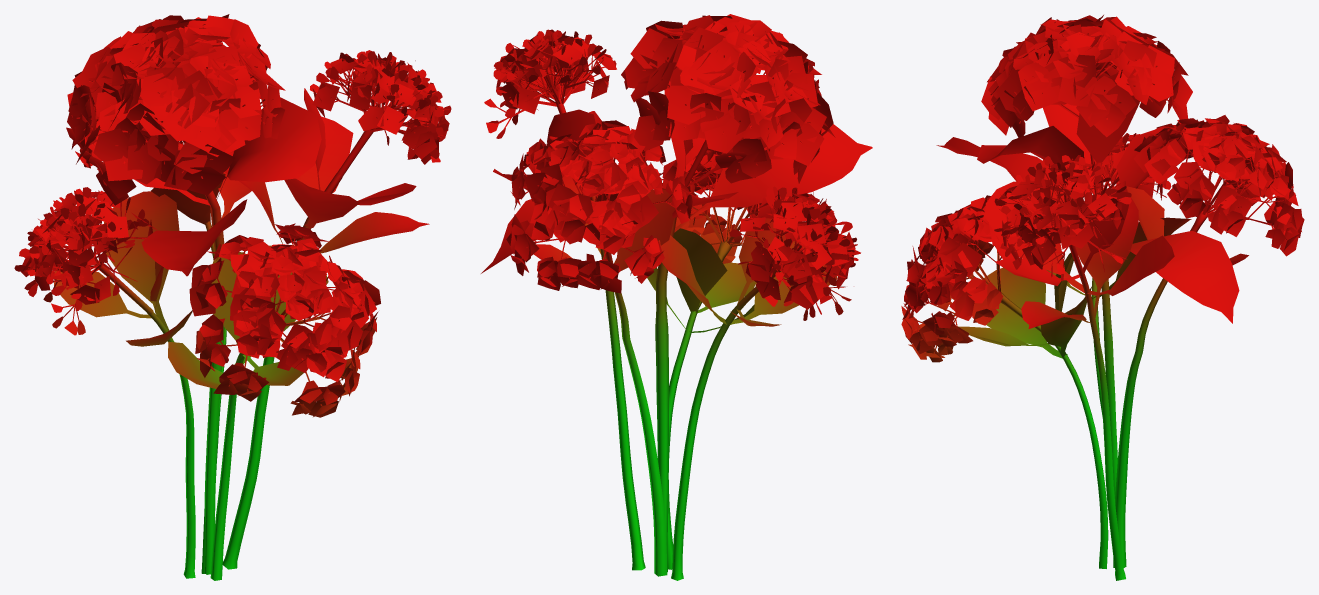
File: Var12_LOD2.fbx
The picture shows the model from 3 angles, left to right: view 1: azimuth 30°, elevation 25°; view 2: azimuth 150°, elevation 25°; view 3: azimuth 270°, elevation 25°; orthographic projection. The views are drawn at different scales.
Parts seen in each view (by area): view 1: _610s_Var12_LOD2; view 2: _610s_Var12_LOD2; view 3: _610s_Var12_LOD2.
Part boxes in pixels (x1,y1,x2,y2): _610s_Var12_LOD2: [14, 14, 451, 580]; _610s_Var12_LOD2: [481, 14, 872, 580]; _610s_Var12_LOD2: [901, 15, 1304, 580].
Bounding box in the file's own units: 36.47 × 50.82 × 35.22.
